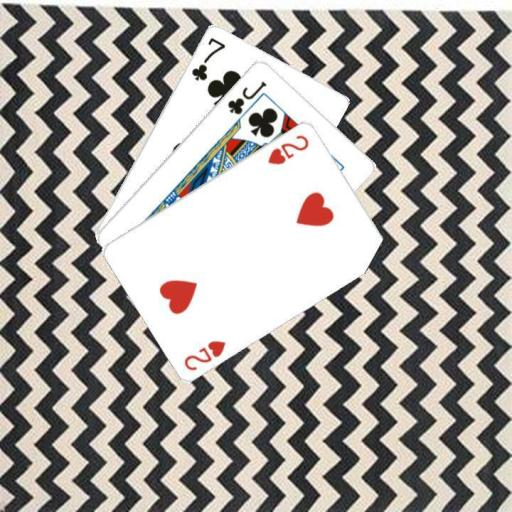card-corner: (188, 34, 227, 82), (180, 336, 228, 372), (224, 77, 268, 116), (264, 131, 310, 166)
